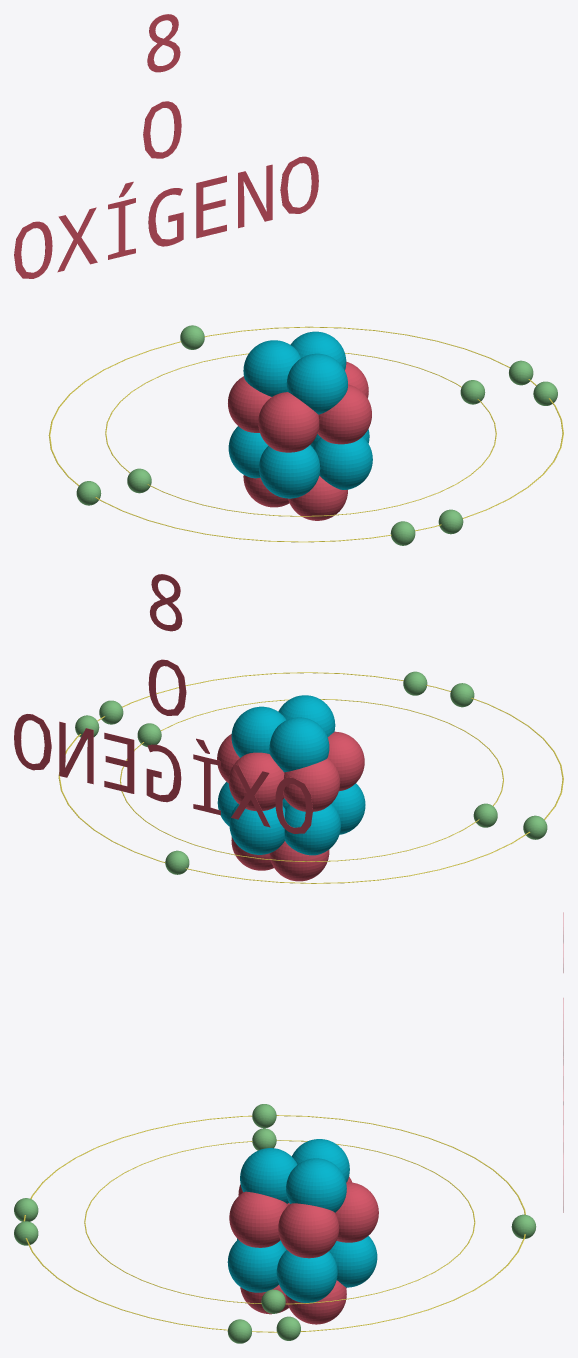
Rendered from 08-OXIGENO-ANDROID.glb.
3 renders of one model, top to bottom at view 1: azimuth 30°, elevation 25°; view 2: azimuth 150°, elevation 25°; view 3: azimuth 270°, elevation 25°, orthographic.
Visible parts, largest first — view 1: Mesh_Mesh_head_geo.001_lambert2SG.001; view 2: Mesh_Mesh_head_geo.001_lambert2SG.001; view 3: Mesh_Mesh_head_geo.001_lambert2SG.001.
Part boxes in pixels (x1,y1,x2,y2): Mesh_Mesh_head_geo.001_lambert2SG.001: (14, 14, 563, 545); Mesh_Mesh_head_geo.001_lambert2SG.001: (14, 574, 563, 883); Mesh_Mesh_head_geo.001_lambert2SG.001: (14, 912, 563, 1343).
Bounding box in the file's own units: 175 × 142 × 180.
